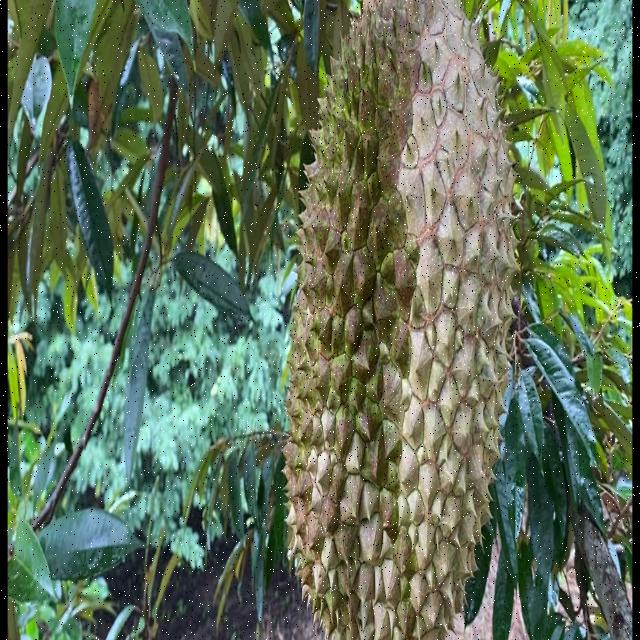RIPE: (282, 0, 516, 640)
